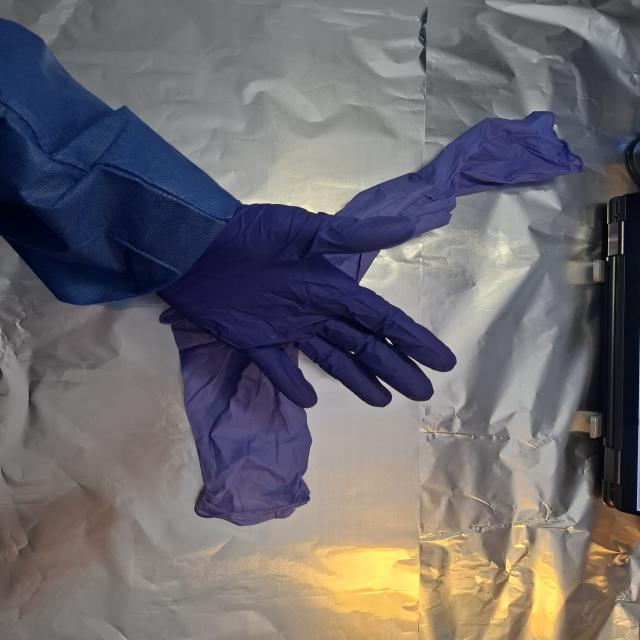glove_on: (154, 202, 461, 410)
